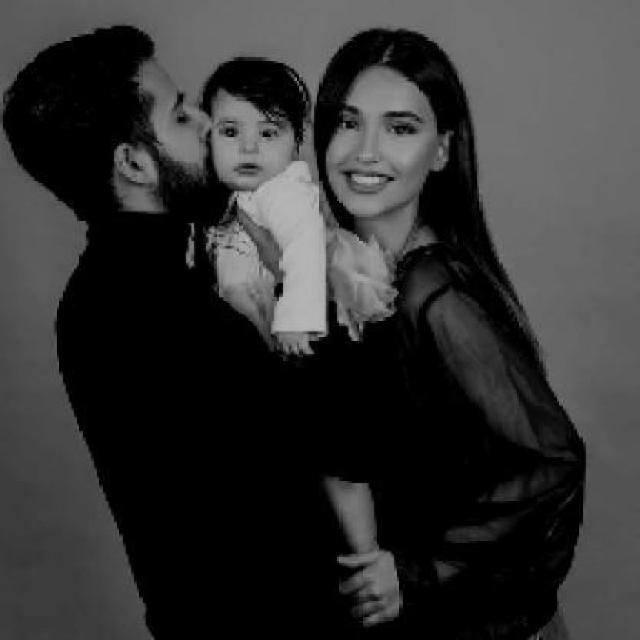child: (200, 56, 346, 370)
